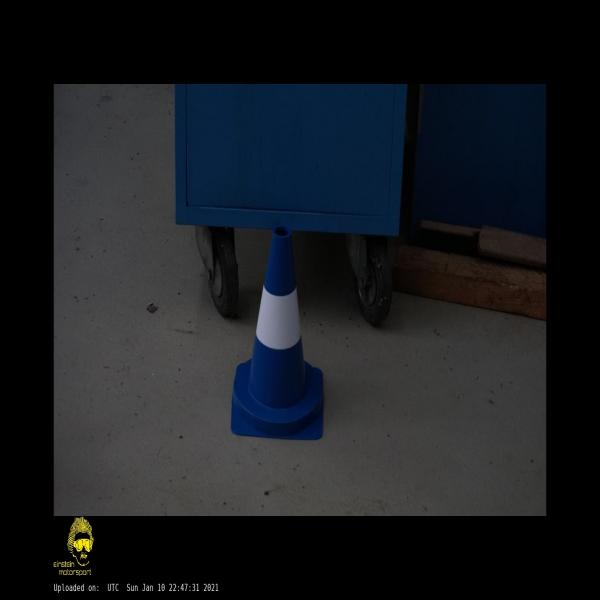blue_cone: (231, 226, 323, 438)
